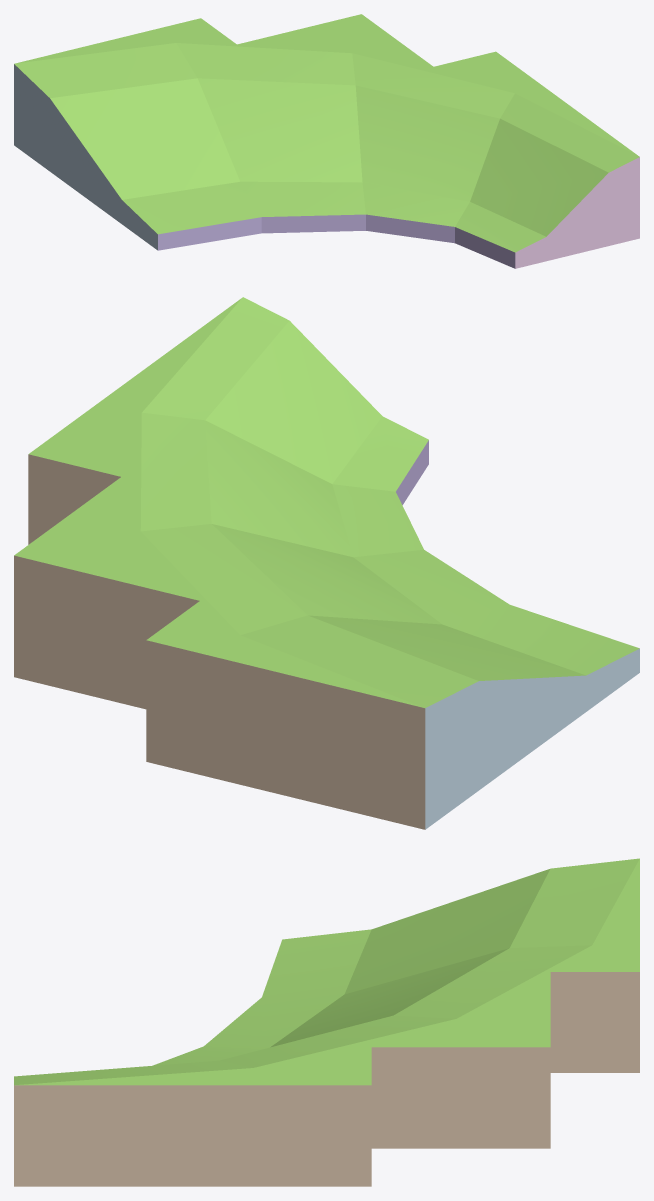
File: Grass_Hill_Grade_Transition_Curve_Inner_6x7.glb
The picture shows the model from 3 angles, top to bottom: view 1: azimuth 30°, elevation 25°; view 2: azimuth 150°, elevation 25°; view 3: azimuth 270°, elevation 25°; orthographic projection. The views are drawn at different scales.
Visible parts, largest first — view 1: Grass_Hill_Grade_Transition_Curve_Inner_6x7; view 2: Grass_Hill_Grade_Transition_Curve_Inner_6x7; view 3: Grass_Hill_Grade_Transition_Curve_Inner_6x7.
Part boxes in pixels (x1=…): Grass_Hill_Grade_Transition_Curve_Inner_6x7: x1=14, y1=14, x2=639, y2=268; Grass_Hill_Grade_Transition_Curve_Inner_6x7: x1=14, y1=297, x2=639, y2=829; Grass_Hill_Grade_Transition_Curve_Inner_6x7: x1=14, y1=858, x2=639, y2=1186.
Size of the model in its own units: 600 by 125 by 700.
